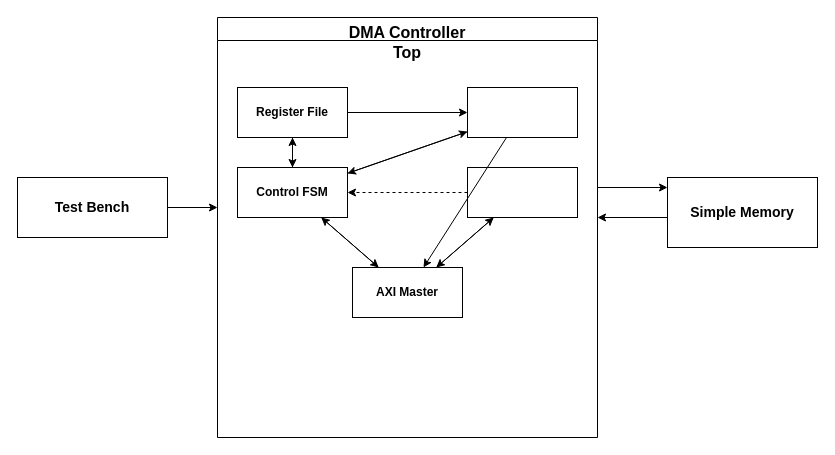
Some shapes in this 835 by 455 pixel diagram are drawn without their labels. Here are the shapes that lost their labels. From the top down, the box of each, then its label:
(466, 86, 578, 138): Datapath
(466, 166, 578, 218): FIFO
